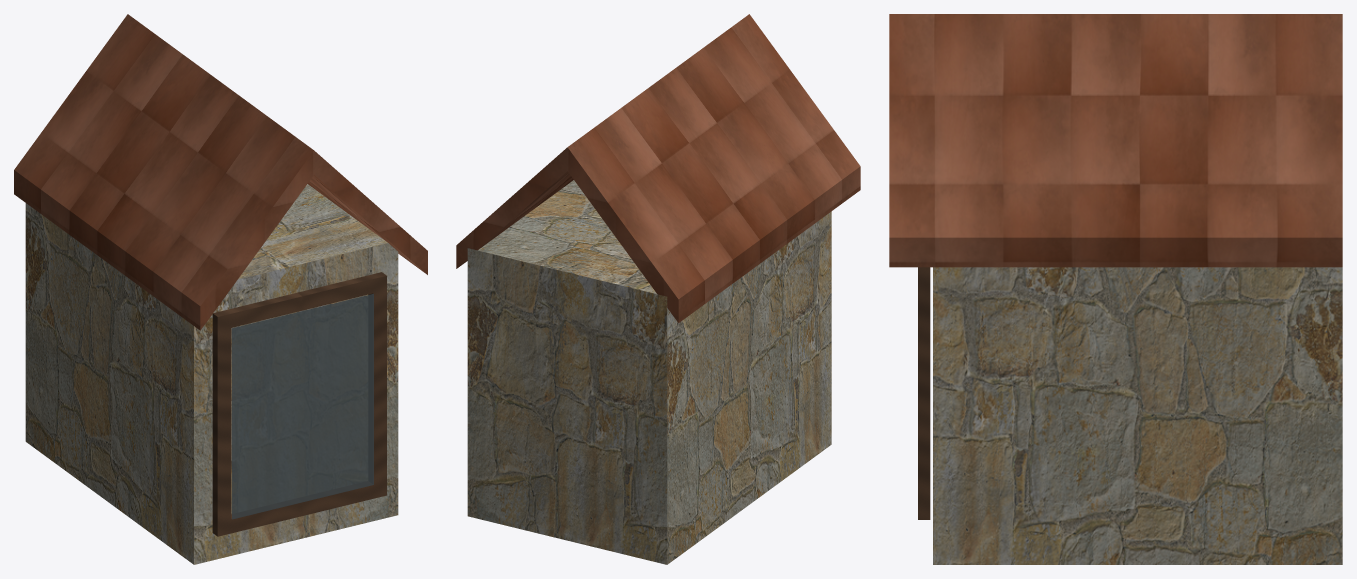
The model's file is dormer_gable.glb.
3 views of the same model, side by side, from view 1: azimuth 30°, elevation 25°; view 2: azimuth 150°, elevation 25°; view 3: azimuth 270°, elevation 25° (orthographic). The views are drawn at different scales.
Parts seen in each view (by area): view 1: dormer_gable_0; view 2: dormer_gable_0; view 3: dormer_gable_0.
Boxes of the visible parts, <box> form: dormer_gable_0: <box>14,14,427,564</box>; dormer_gable_0: <box>456,14,860,564</box>; dormer_gable_0: <box>889,14,1342,564</box>.
Size of the model in its own units: 1.17 by 1.98 by 1.66.
Materials: 4 (3 with a texture image).
